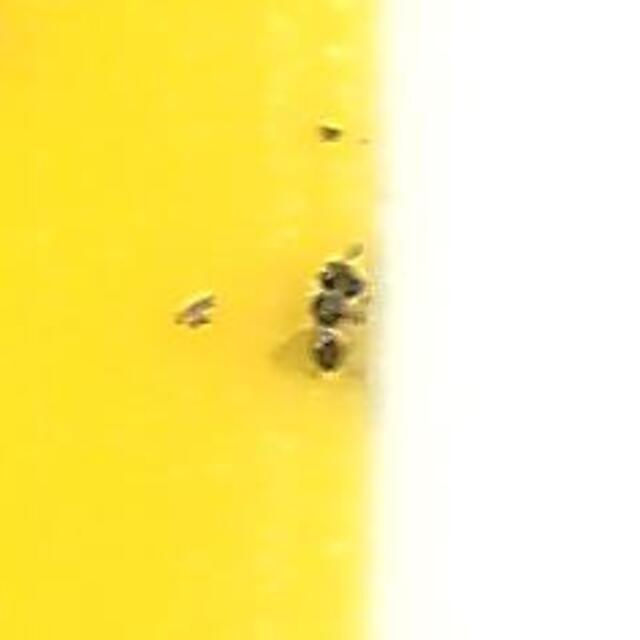Hymenoptera: (271, 245, 369, 395)
